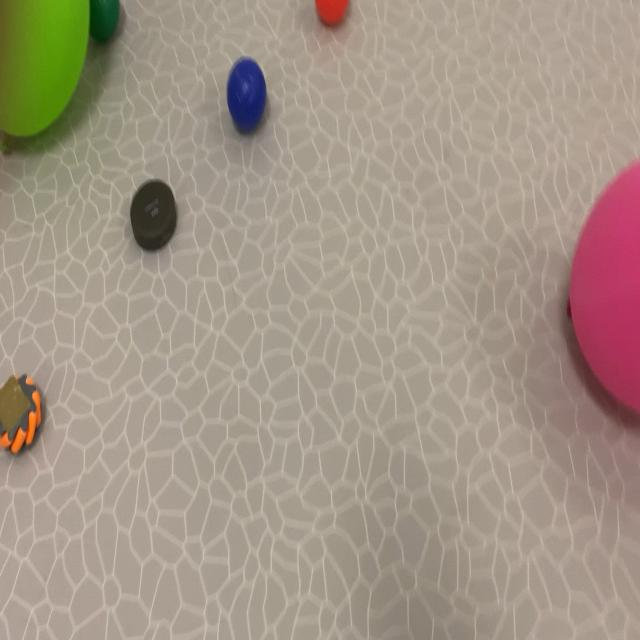blue ball: (82, 0, 363, 41)
green ball: (213, 42, 324, 207)
